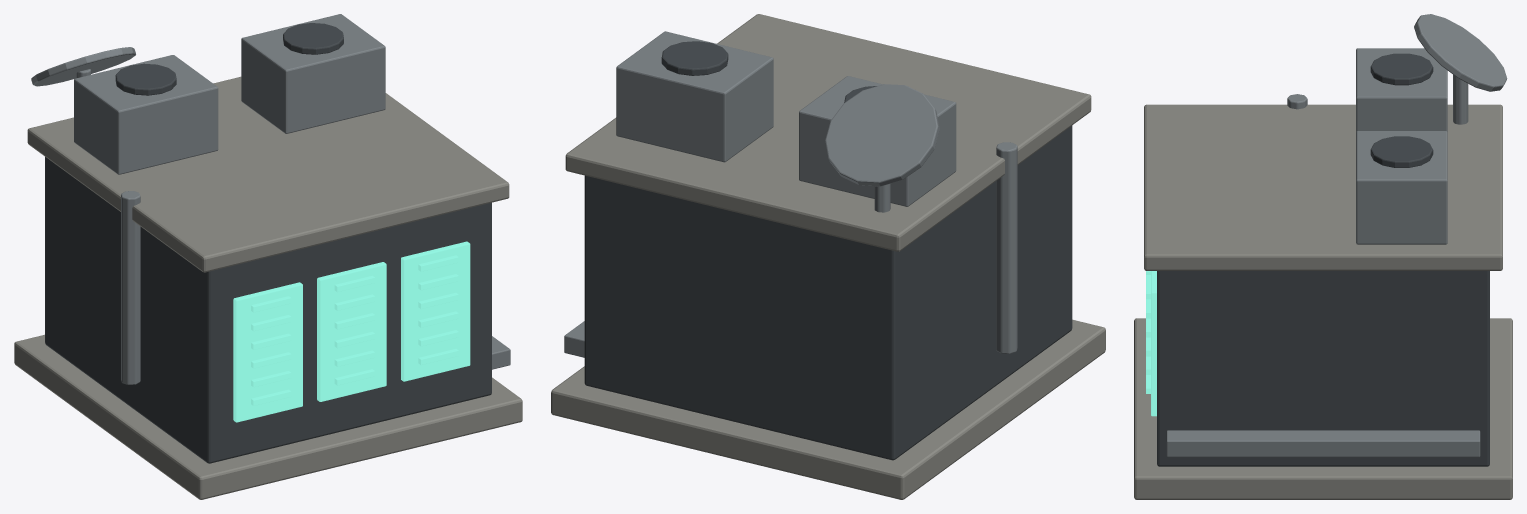
The model's file is server_room.glb.
The picture shows the model from 3 angles, left to right: view 1: azimuth 30°, elevation 25°; view 2: azimuth 150°, elevation 25°; view 3: azimuth 270°, elevation 25°; orthographic projection. The views are drawn at different scales.
Parts seen in each view (by area): view 1: server_room; view 2: server_room; view 3: server_room.
Boxes of the visible parts, <box> form: server_room: <box>14,14,522,499</box>; server_room: <box>551,14,1105,499</box>; server_room: <box>1134,14,1512,499</box>.
Bounding box in the file's own units: 2.95 × 2.88 × 2.9.
